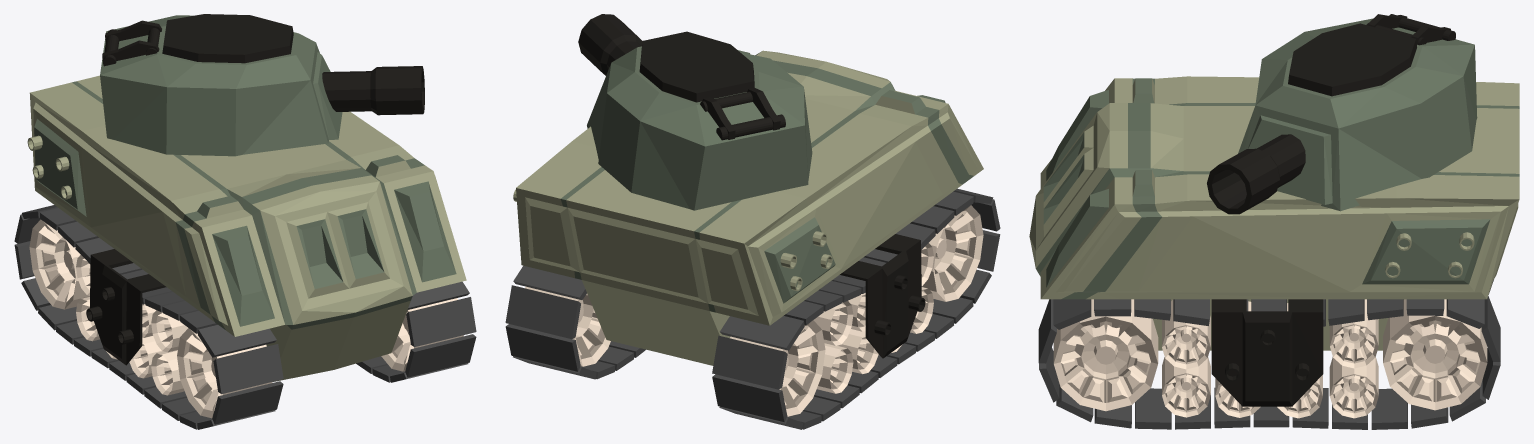
The model's file is Tank1.obj.
3 renders of one model, left to right at view 1: azimuth 30°, elevation 25°; view 2: azimuth 150°, elevation 25°; view 3: azimuth 270°, elevation 25°, orthographic. The views are drawn at different scales.
Parts seen in each view (by area): view 1: Body, Top_Turret, Chain.001, Cylinder.018, Chain, Cube.000, Cylinder.008, Cylinder.016; view 2: Body, Top_Turret, Chain.001, Cylinder.018, Chain, Cube.000, Cylinder.008, Cylinder.016; view 3: Body, Top_Turret, Cylinder.008, Chain, Cube.001.
Boxes of the visible parts, x1,y1,x2,y2 form: Body: (27, 75, 466, 381); Top_Turret: (100, 14, 424, 156); Chain.001: (14, 205, 283, 429); Cylinder.018: (29, 219, 272, 418); Chain: (356, 281, 476, 382); Cube.000: (86, 249, 166, 365); Cylinder.008: (381, 298, 463, 371); Cylinder.016: (76, 297, 99, 341); Body: (513, 50, 983, 365); Top_Turret: (578, 14, 812, 210); Chain.001: (712, 188, 1000, 429); Cylinder.018: (730, 205, 983, 416); Chain: (505, 265, 645, 379); Cube.000: (840, 234, 925, 358); Cylinder.008: (525, 286, 610, 366); Cylinder.016: (817, 343, 853, 393); Body: (1029, 76, 1519, 350); Top_Turret: (1207, 14, 1477, 214); Cylinder.008: (1053, 299, 1487, 418); Chain: (1038, 296, 1500, 429); Cube.001: (1211, 299, 1323, 406).
Bounding box in the file's own units: 5.44 × 4.7 × 6.62.
